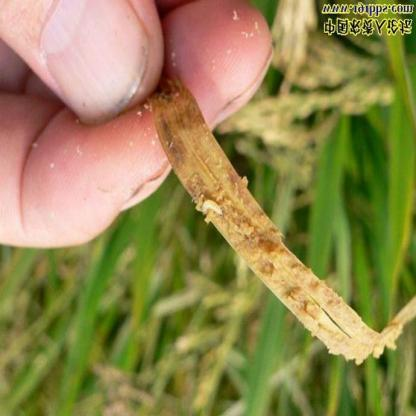whorl-maggot: (200, 195, 227, 219)
